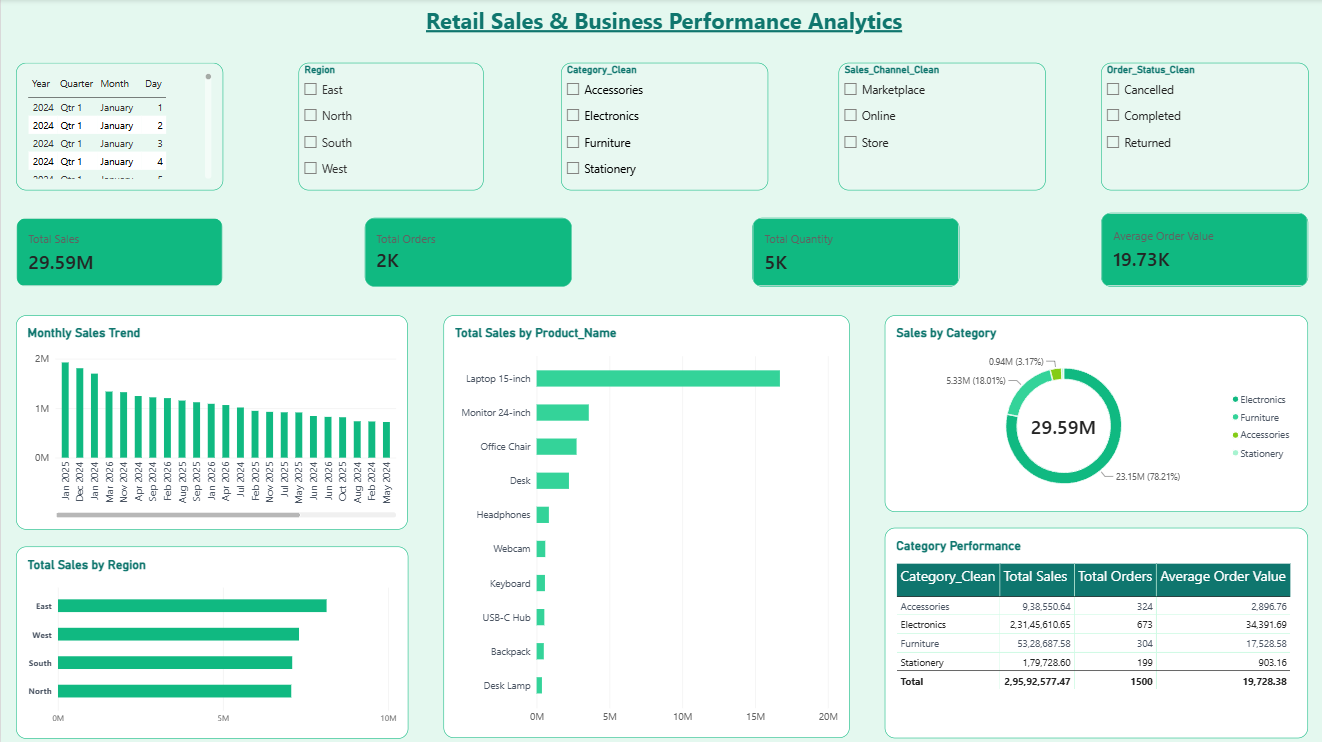

The page's visual inventory and layout, read from the dashboard file:
{"tool":"powerbi","page":{"name":"Executive Overview","canvas":[1920,1080],"ordinal":0},"visuals":[{"type":"textbox","box":[590,8.8,740,50],"z":0},{"type":"tableEx","fields":{"Values":["DateTable.Date.Variation.Date Hierarchy.Year","DateTable.Date.Variation.Date Hierarchy.Quarter","DateTable.Date.Variation.Date Hierarchy.Month","DateTable.Date.Variation.Date Hierarchy.Day"]},"box":[22.5,92.5,300,185],"z":1000},{"type":"slicer","fields":{"Values":["Clean_data.Category_Clean"]},"box":[810,92.5,300,185],"z":2000},{"type":"slicer","fields":{"Values":["Clean_data.Sales_Channel_Clean"]},"box":[1212.5,92.5,300,185],"z":3000},{"type":"slicer","fields":{"Values":["Clean_data.Order_Status_Clean"]},"box":[1592.5,92.3,300.4,184.6],"z":4000},{"type":"cardVisual","fields":{"Data":["Clean_data.Total Sales"]},"box":[22.5,317.5,300,100],"z":5000},{"type":"cardVisual","fields":{"Data":["Clean_data.Total Orders"]},"box":[527.5,317.5,300,100],"z":6000},{"type":"cardVisual","fields":{"Data":["Clean_data.Total Quantity"]},"box":[1087.5,317.5,300,100],"z":7000},{"type":"cardVisual","fields":{"Data":["Clean_data.Average Order Value"]},"box":[1592.5,310,300,107.5],"z":8000},{"type":"clusteredColumnChart","title":"Monthly Sales Trend","fields":{"Category":["DateTable.Month Year"],"Y":["Clean_data.Total Sales"]},"box":[22.2,457.4,567.5,310],"z":9000},{"type":"donutChart","title":"Sales by Category","fields":{"Category":["Clean_data.Category_Clean"],"Y":["Clean_data.Total Sales"]},"box":[1280,457.5,612.5,285],"z":10000},{"type":"barChart","fields":{"Category":["Clean_data.Region"],"Y":["Clean_data.Total Sales"]},"box":[22.2,792.6,568,278],"z":11000},{"type":"barChart","fields":{"Category":["Clean_data.Product_Name"],"Y":["Clean_data.Total Sales"]},"box":[640,457.8,587.8,612.2],"z":12000},{"type":"tableEx","title":"Category Performance","fields":{"Values":["Clean_data.Category_Clean","Clean_data.Total Sales","Clean_data.Total Orders","Clean_data.Average Order Value"]},"box":[1280,765,612.5,305],"z":13000},{"type":"slicer","fields":{"Values":["Clean_data.Region"]},"box":[430,92.5,268,185],"z":14000}]}

Visuals, with their boxes in screenshot pixels (x1, y1, x2, y2), scaled from the page's 1920x1080 canvas onto the 1322x742 screenshot:
textbox: 406/6/916/40
tableEx - DateTable.Date.Variation.Date Hierarchy.Year x DateTable.Date.Variation.Date Hierarchy.Quarter: 15/64/222/191
slicer - Clean_data.Category_Clean: 558/64/764/191
slicer - Clean_data.Sales_Channel_Clean: 835/64/1041/191
slicer - Clean_data.Order_Status_Clean: 1097/63/1303/190
cardVisual - Clean_data.Total Sales: 15/218/222/287
cardVisual - Clean_data.Total Orders: 363/218/570/287
cardVisual - Clean_data.Total Quantity: 749/218/955/287
cardVisual - Clean_data.Average Order Value: 1097/213/1303/287
"Monthly Sales Trend" clusteredColumnChart: 15/314/406/527
"Sales by Category" donutChart: 881/314/1303/510
barChart - Clean_data.Region x Clean_data.Total Sales: 15/545/406/736
barChart - Clean_data.Product_Name x Clean_data.Total Sales: 441/315/845/735
"Category Performance" tableEx: 881/526/1303/735
slicer - Clean_data.Region: 296/64/481/191
